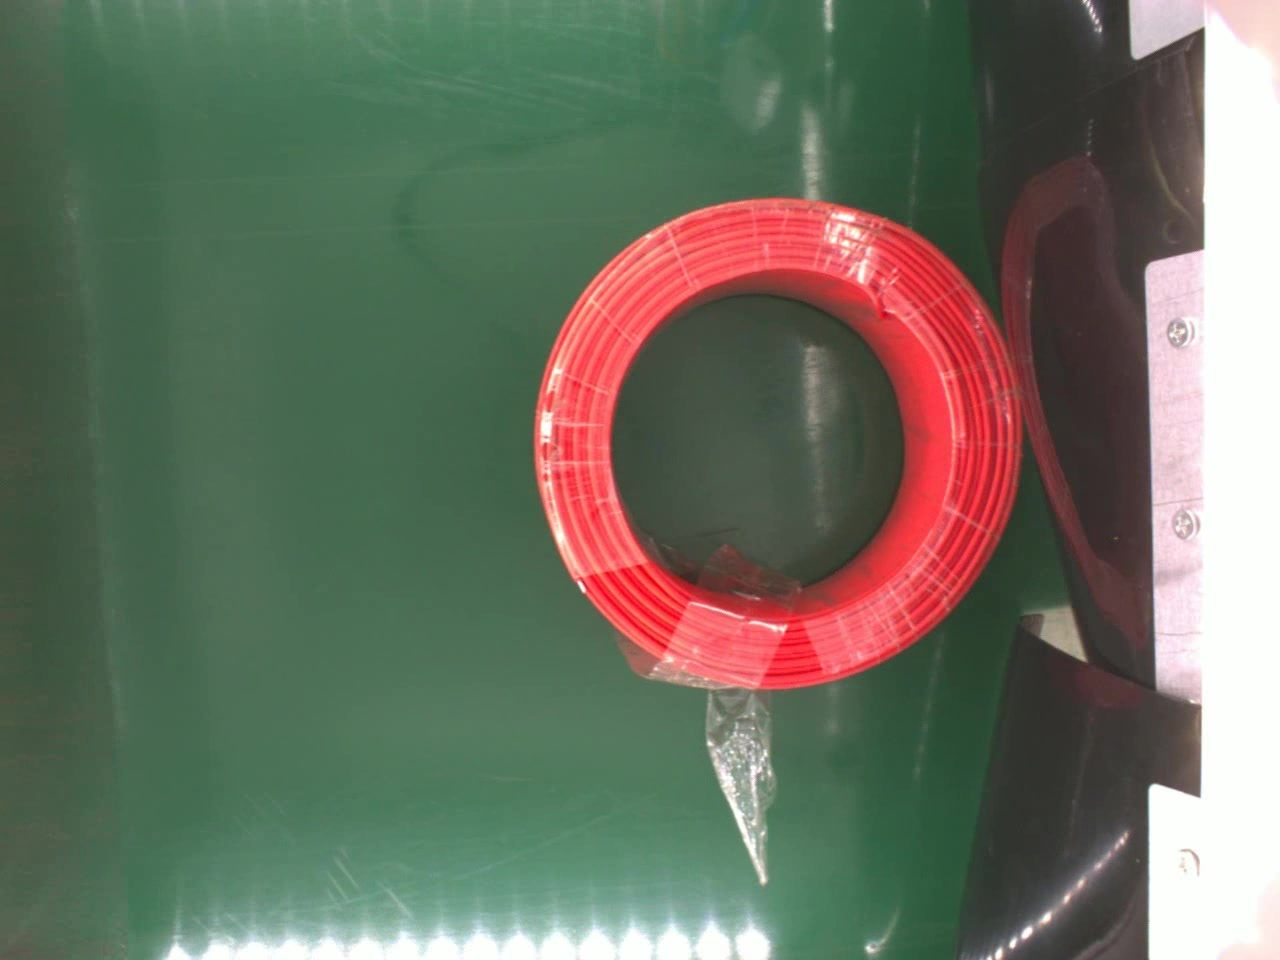red: (528, 197, 1024, 697)
